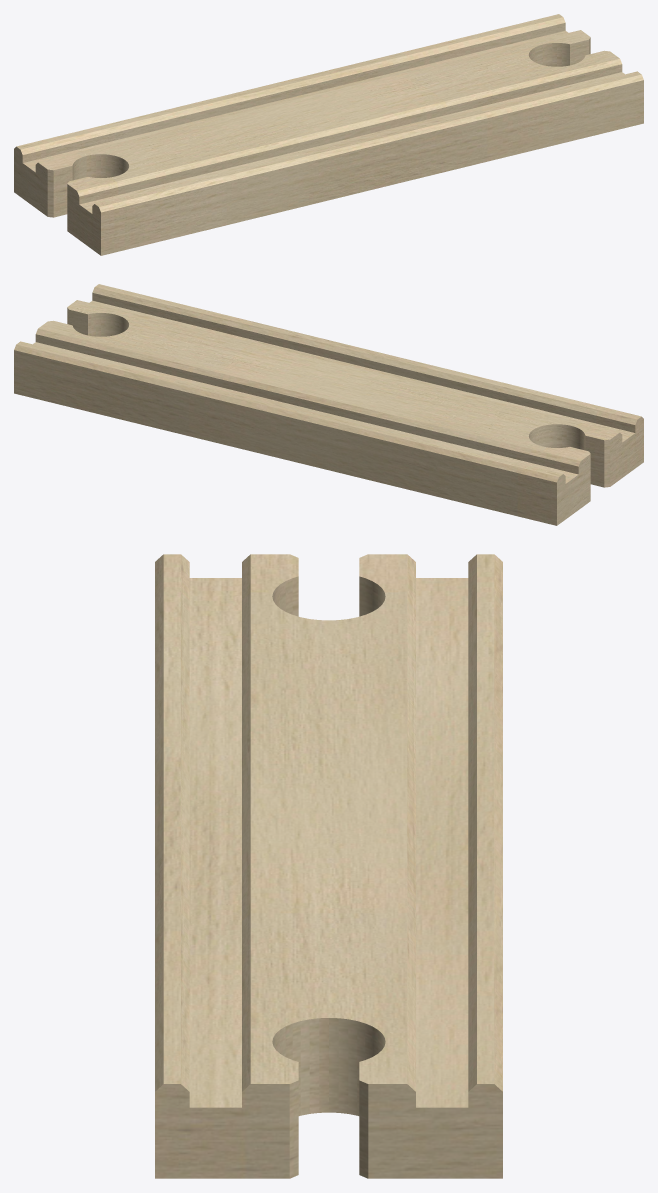
3 renders of one model, top to bottom at view 1: azimuth 30°, elevation 25°; view 2: azimuth 150°, elevation 25°; view 3: azimuth 270°, elevation 25°, orthographic. The views are drawn at different scales.
Visible parts, largest first — view 1: SketchUp; view 2: SketchUp; view 3: SketchUp.
Part boxes in pixels (left/top/right/bottom): SketchUp: left=14, top=14, right=643, bottom=255; SketchUp: left=14, top=284, right=643, bottom=525; SketchUp: left=155, top=554, right=502, bottom=1178.
Bounding box in the file's own units: 5.67 × 1.57 × 0.4724.
